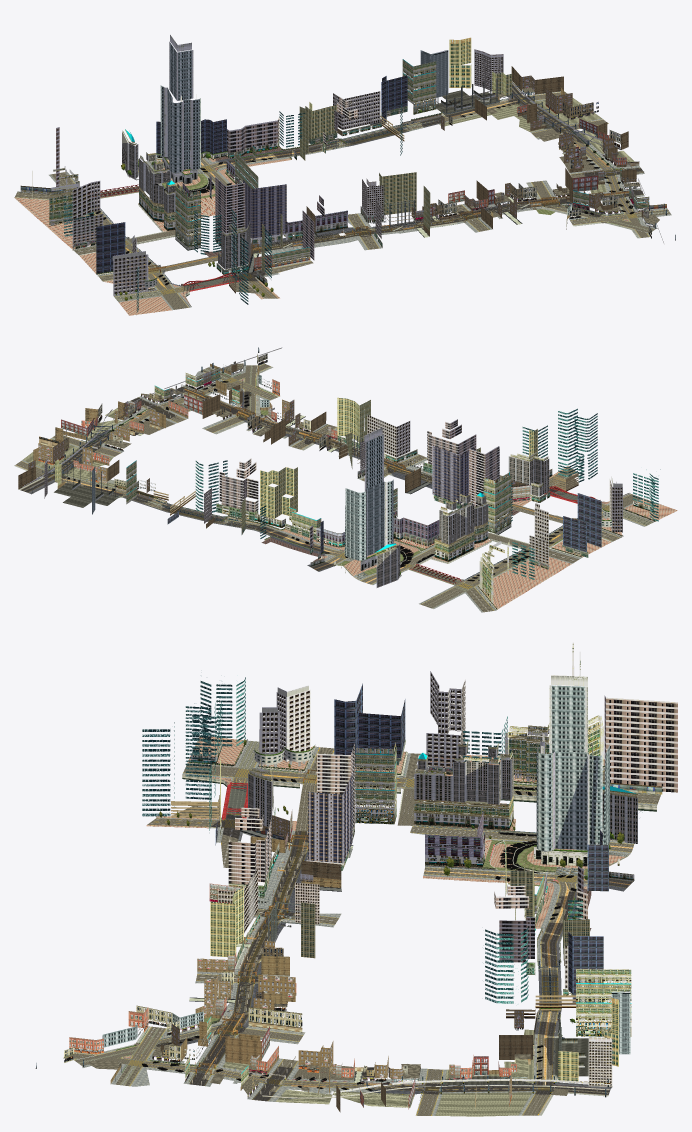
Rendered from track-US_C2_V1.glb.
The picture shows the model from 3 angles, top to bottom: view 1: azimuth 30°, elevation 25°; view 2: azimuth 150°, elevation 25°; view 3: azimuth 270°, elevation 25°; orthographic projection. The views are drawn at different scales.
Visible parts, largest first — view 1: US_C2_V1; view 2: US_C2_V1; view 3: US_C2_V1.
Part boxes in pixels (x1,y1,x2,y2): US_C2_V1: (14,35,675,315); US_C2_V1: (14,347,677,612); US_C2_V1: (35,642,677,1116).
Bounding box in the file's own units: 1928 × 548 × 1422.
89 materials, 88 textured.
